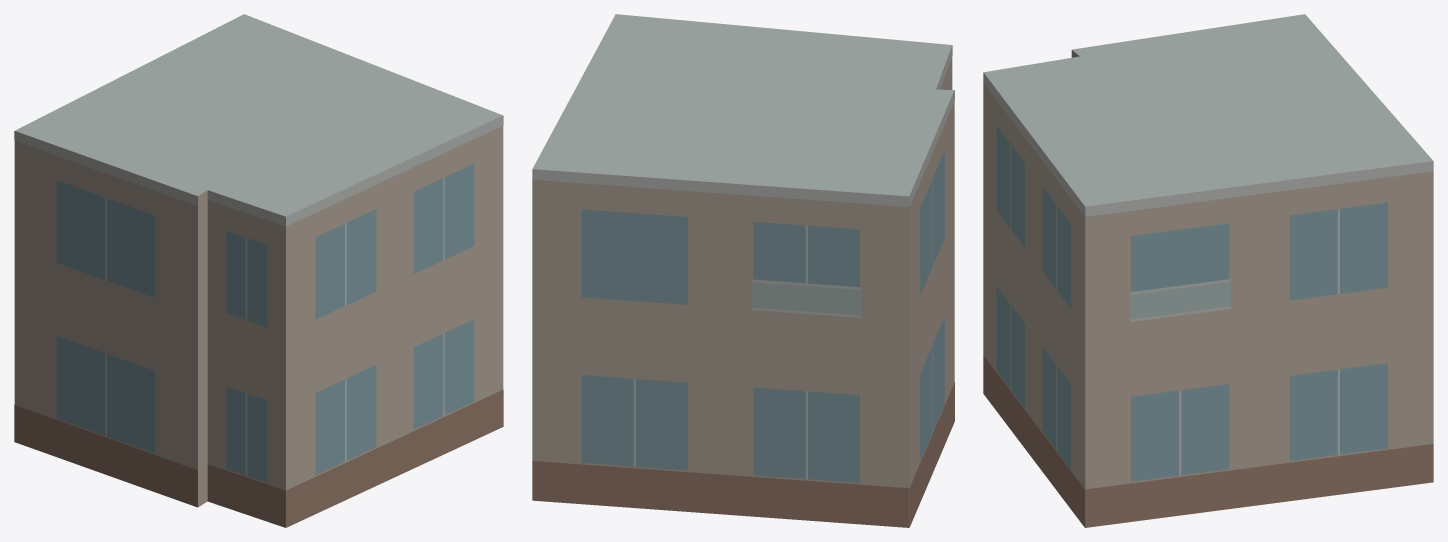
File: survey-upis-32695597.glb
3 renders of one model, left to right at view 1: azimuth 30°, elevation 25°; view 2: azimuth 150°, elevation 25°; view 3: azimuth 270°, elevation 25°, orthographic. The views are drawn at different scales.
Visible parts, largest first — view 1: survey-upis-32695597.tmp; view 2: survey-upis-32695597.tmp; view 3: survey-upis-32695597.tmp.
Boxes of the visible parts, x1,y1,x2,y2 form: survey-upis-32695597.tmp: (14, 14, 503, 527); survey-upis-32695597.tmp: (532, 14, 954, 527); survey-upis-32695597.tmp: (983, 14, 1433, 527).
Size of the model in its own units: 9.78 by 7.6 by 9.66.
